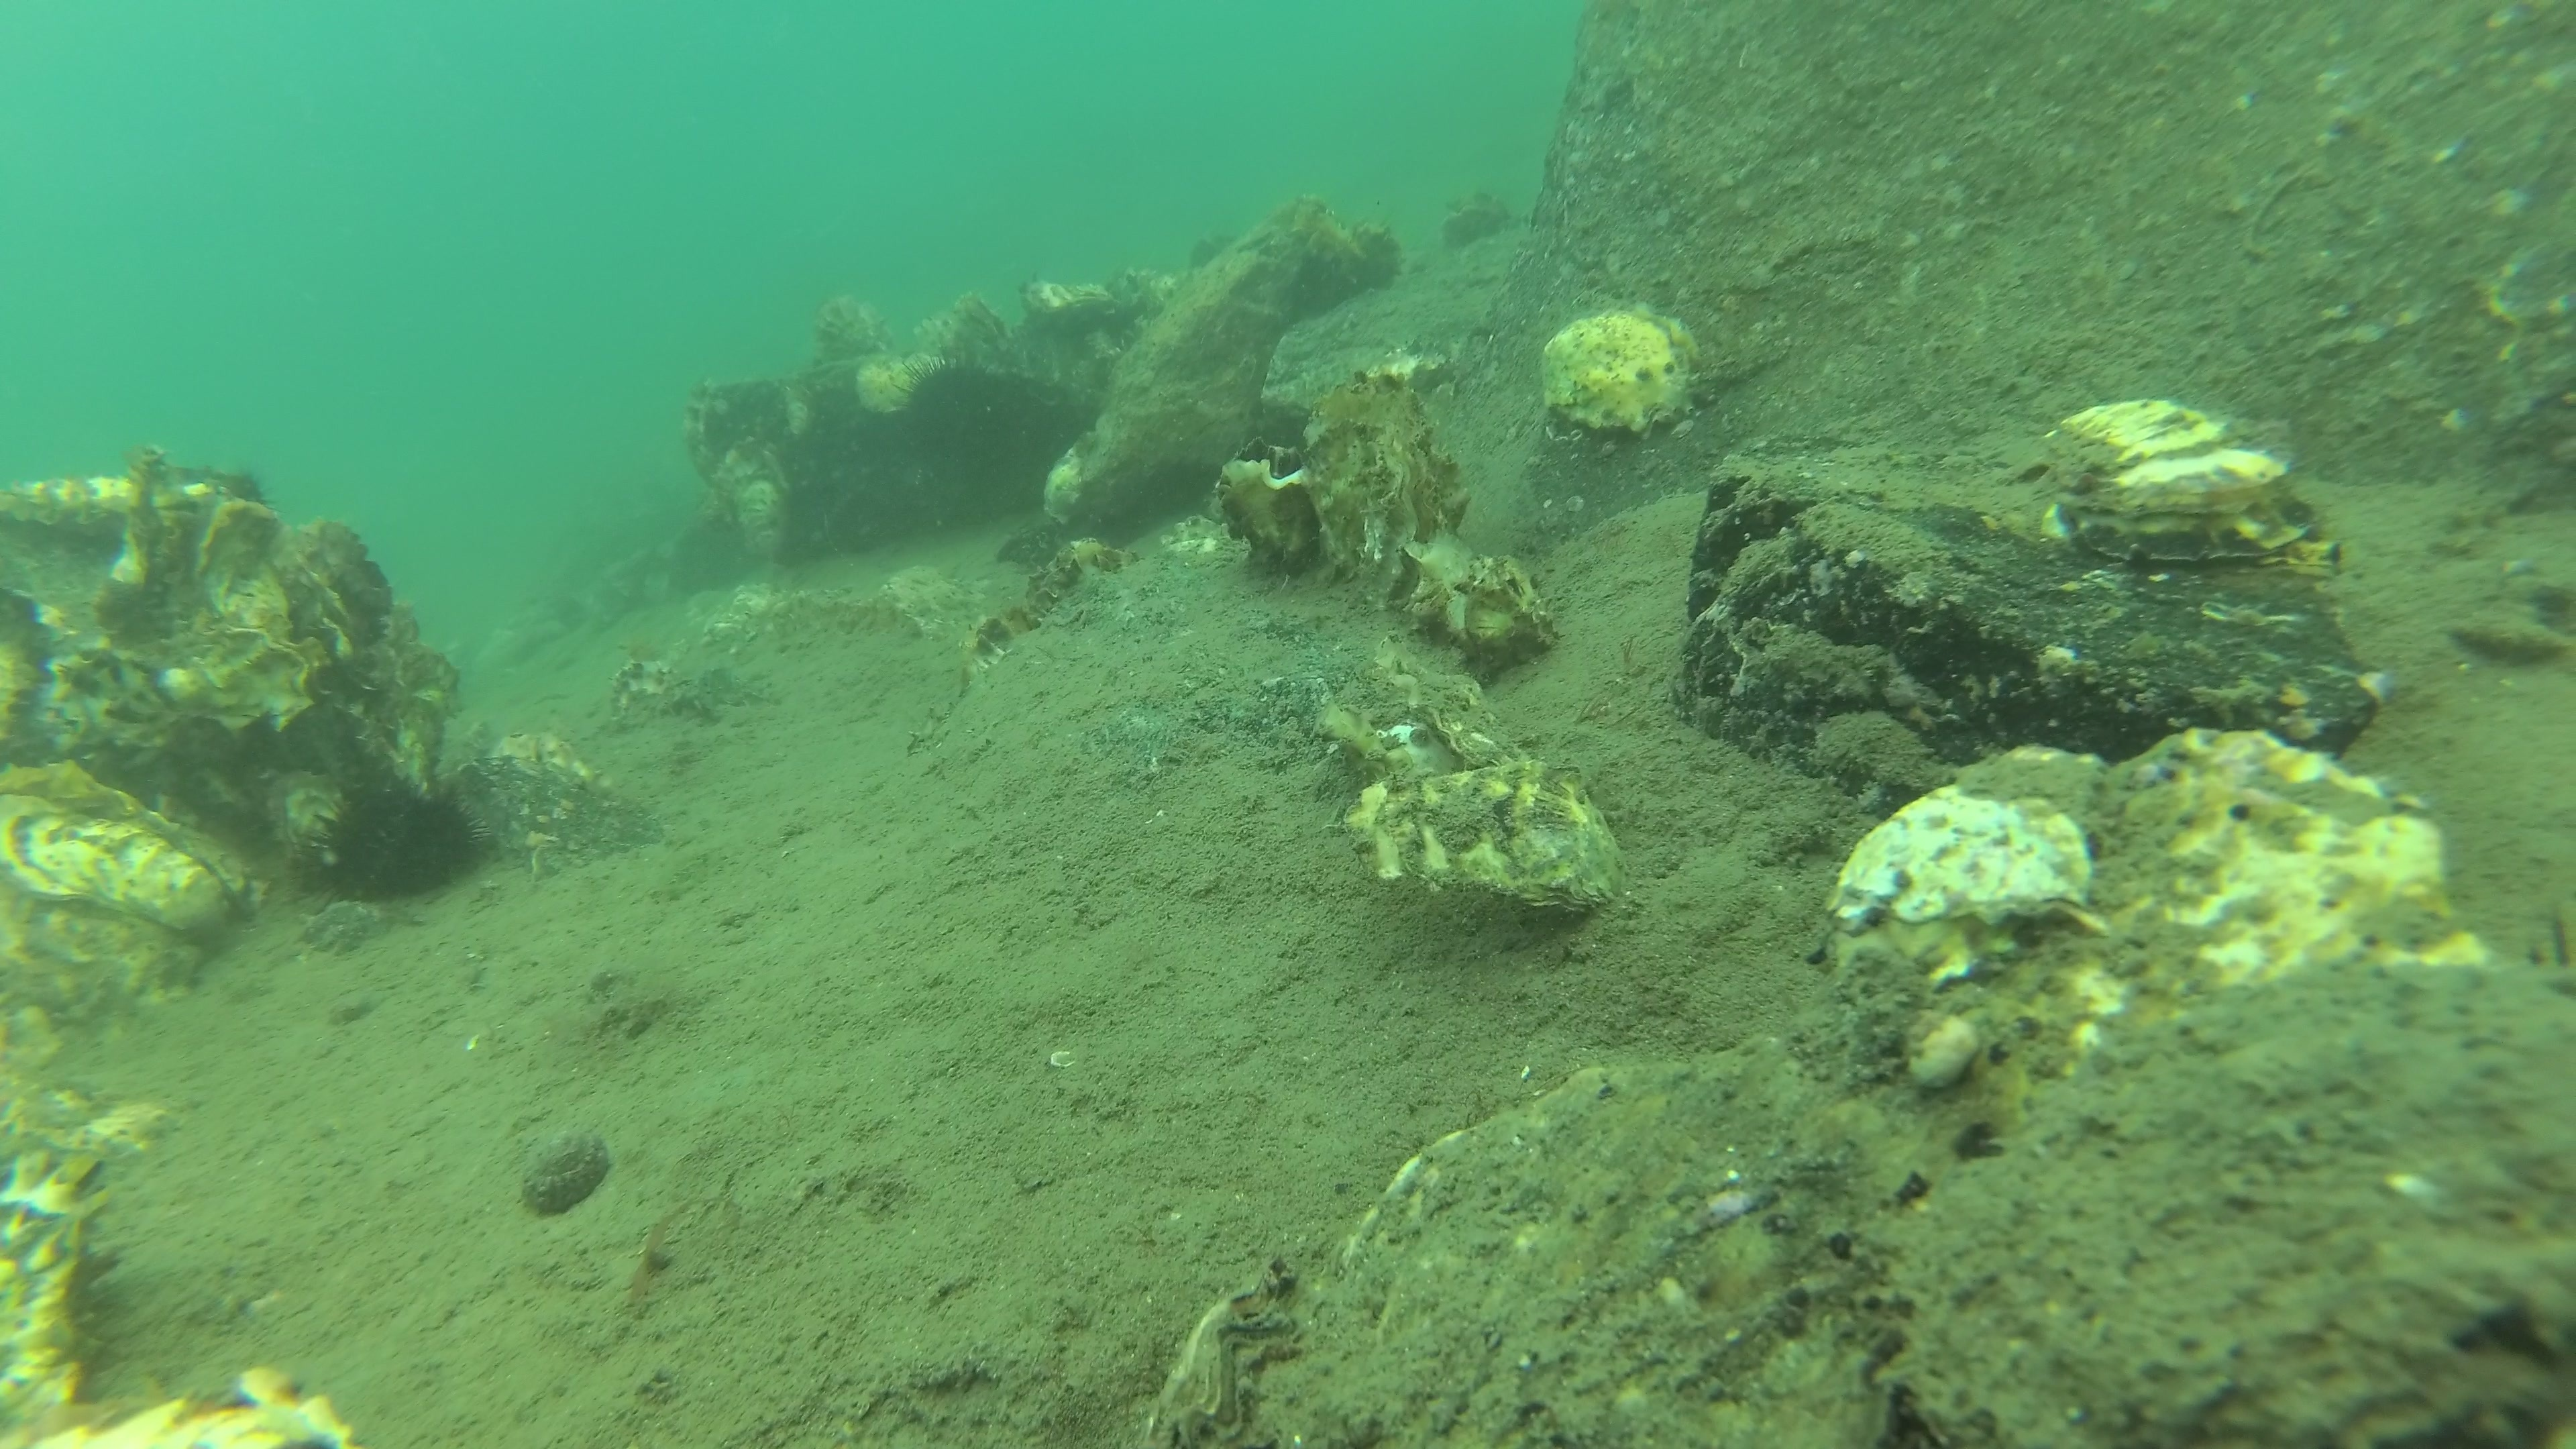echinus: (287, 770, 495, 913), (888, 347, 1033, 458)
